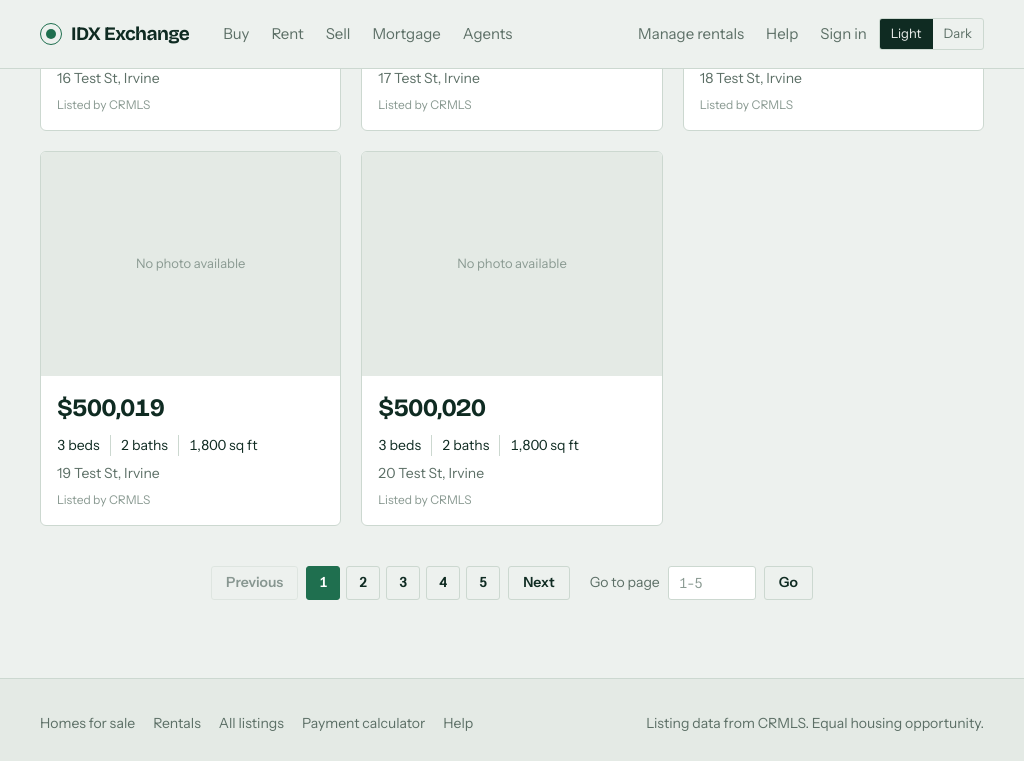
Test: ListingsPage pagination › falls back to the last real page if the current page no longer exists
(page scrolled)
Click the button named "Page 5" at point(483, 583), box top-left (466, 566), bottom-right (500, 600)
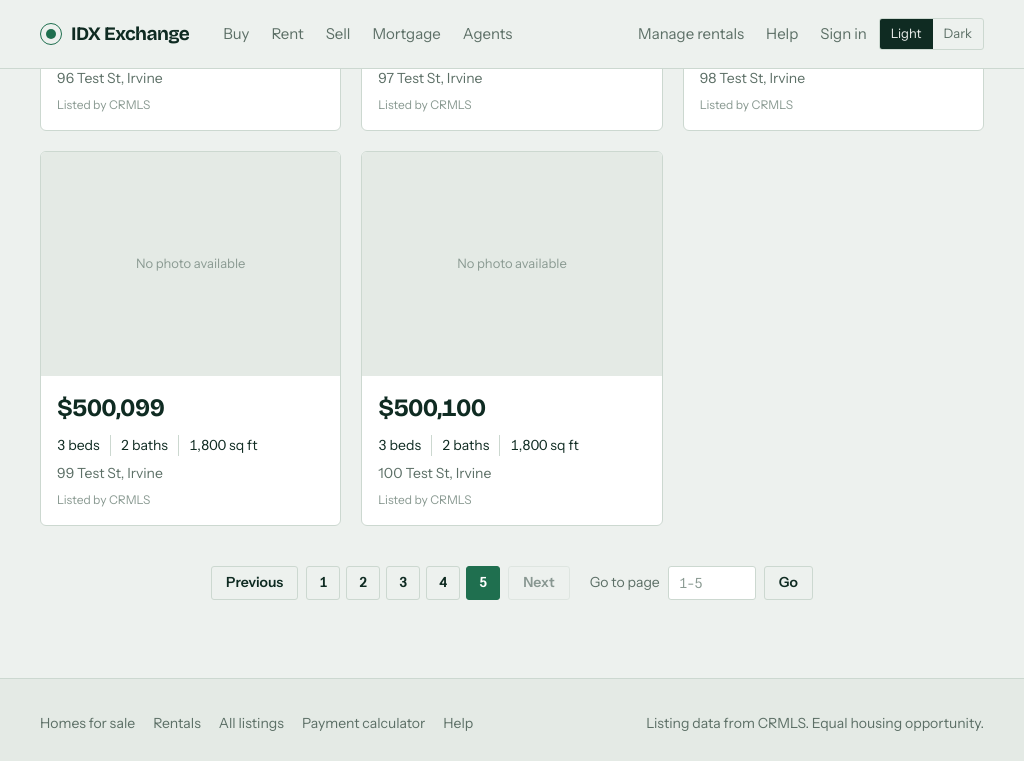
Click the button "Previous" at point(255, 583), box top-left (211, 566), bottom-right (298, 600)
(page scrolled)
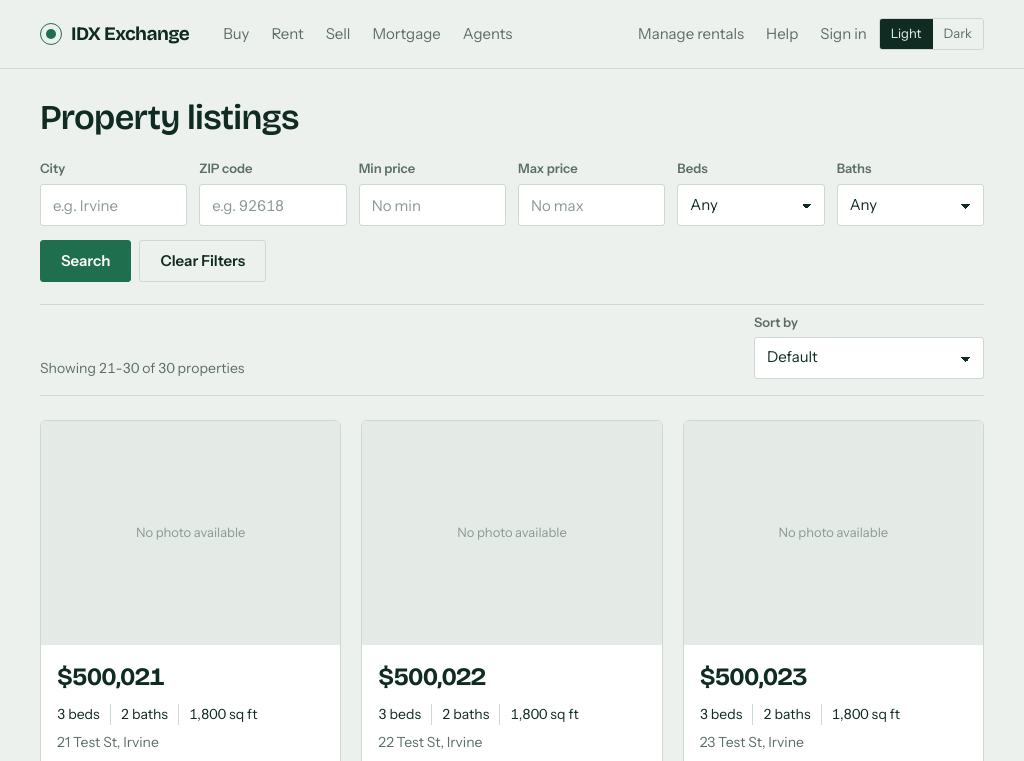
Now the text "Showing 21-30 of 30 properties" is shown, box top-left (40, 358), bottom-right (244, 379)
